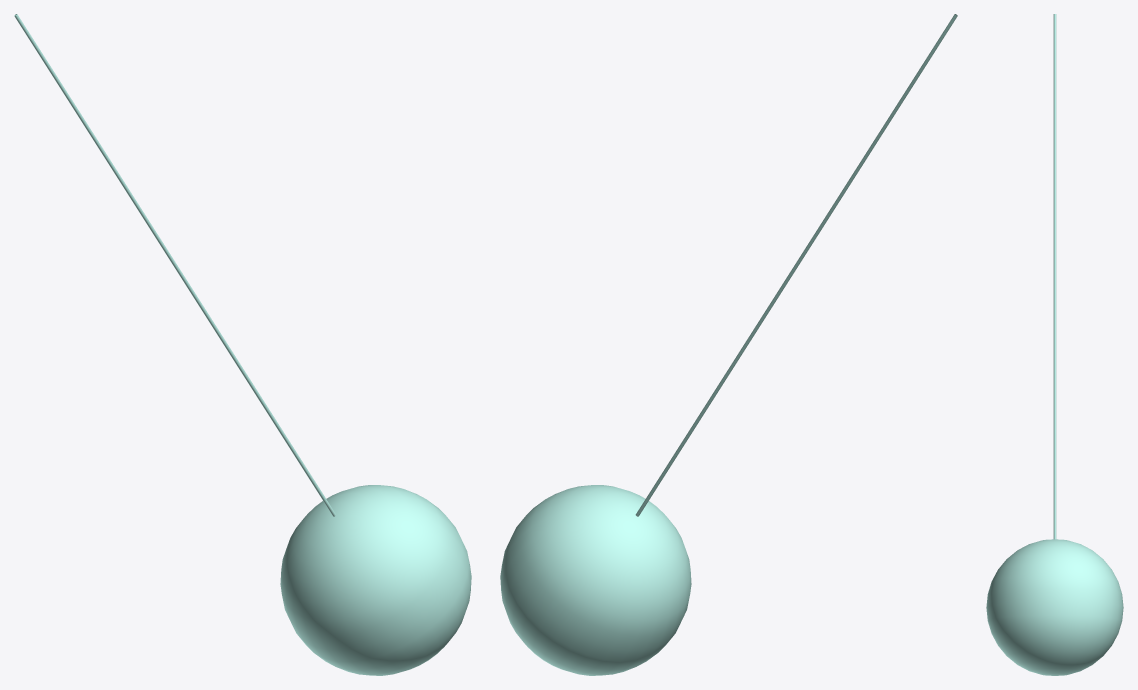
Rendered from pallo2.glb.
3 views of the same model, side by side, from view 1: azimuth 30°, elevation 25°; view 2: azimuth 150°, elevation 25°; view 3: azimuth 270°, elevation 25° (orthographic). The views are drawn at different scales.
Visible parts, largest first — view 1: Cylinder; view 2: Cylinder; view 3: Cylinder.
Part boxes in pixels (x1,y1,x2,y2): Cylinder: [14, 14, 471, 675]; Cylinder: [500, 14, 957, 675]; Cylinder: [986, 14, 1123, 675].
Bounding box in the file's own units: 5.36 × 8.53 × 2.
